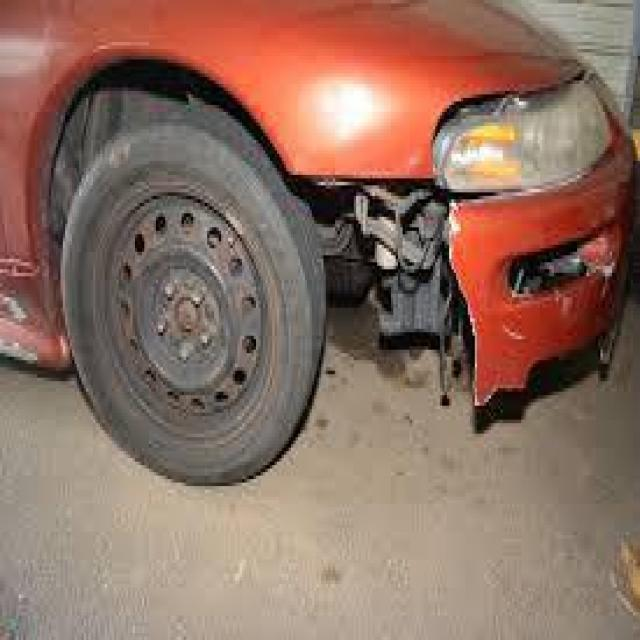damaged: (284, 168, 612, 413), (0, 270, 40, 368)
